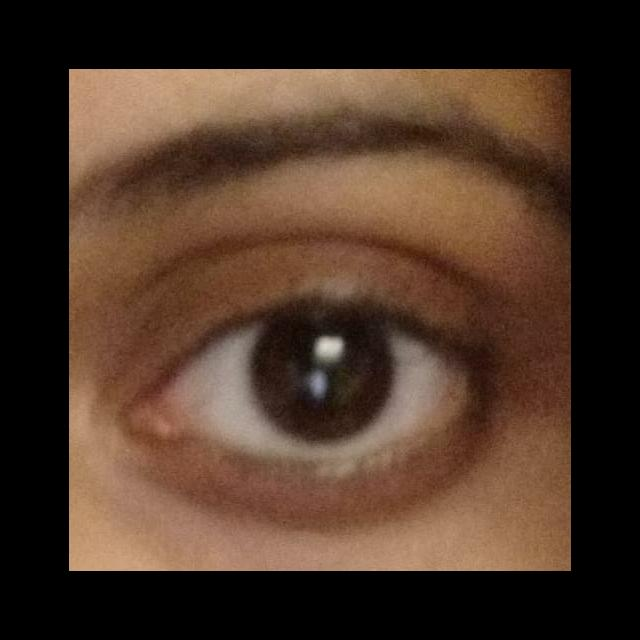eye: (175, 318, 459, 463)
iris: (254, 318, 396, 443)
